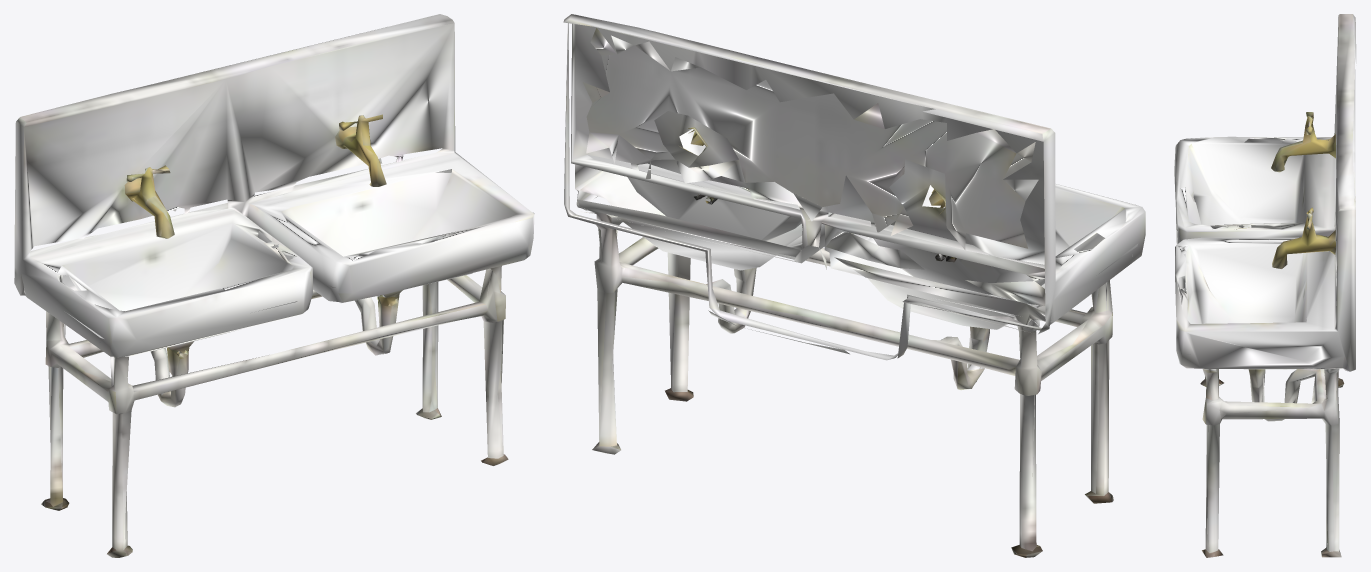
The model's file is lavatorio_doble.movil.glb.
The picture shows the model from 3 angles, left to right: view 1: azimuth 30°, elevation 25°; view 2: azimuth 150°, elevation 25°; view 3: azimuth 270°, elevation 25°; orthographic projection. The views are drawn at different scales.
Visible parts, largest first — view 1: geometry_0; view 2: geometry_0; view 3: geometry_0.
Part boxes in pixels (x1=…): geometry_0: x1=14, y1=14, x2=534, y2=557; geometry_0: x1=563, y1=14, x2=1145, y2=557; geometry_0: x1=1174, y1=14, x2=1356, y2=557.
Bounding box in the file's own units: 1.4 × 1.2 × 0.5491.
Materials: 1 (1 with a texture image).
